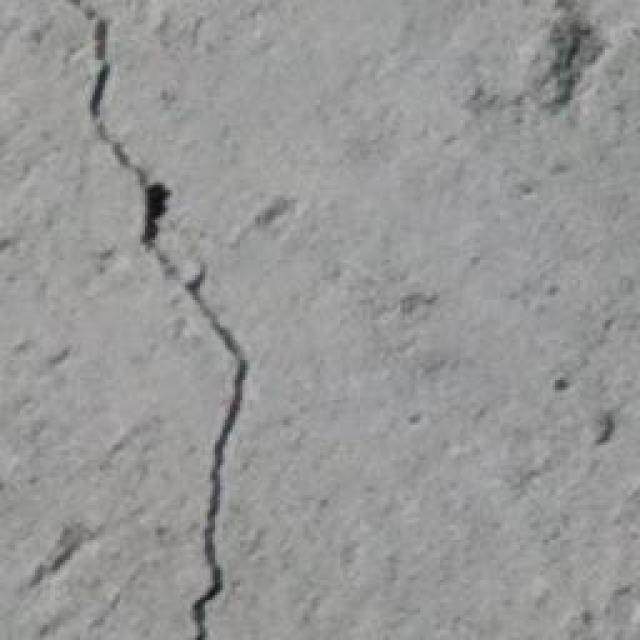Longitudinal: (188, 330, 268, 640), (54, 0, 176, 154)
Turtle-shell patterned: (101, 154, 261, 313)
